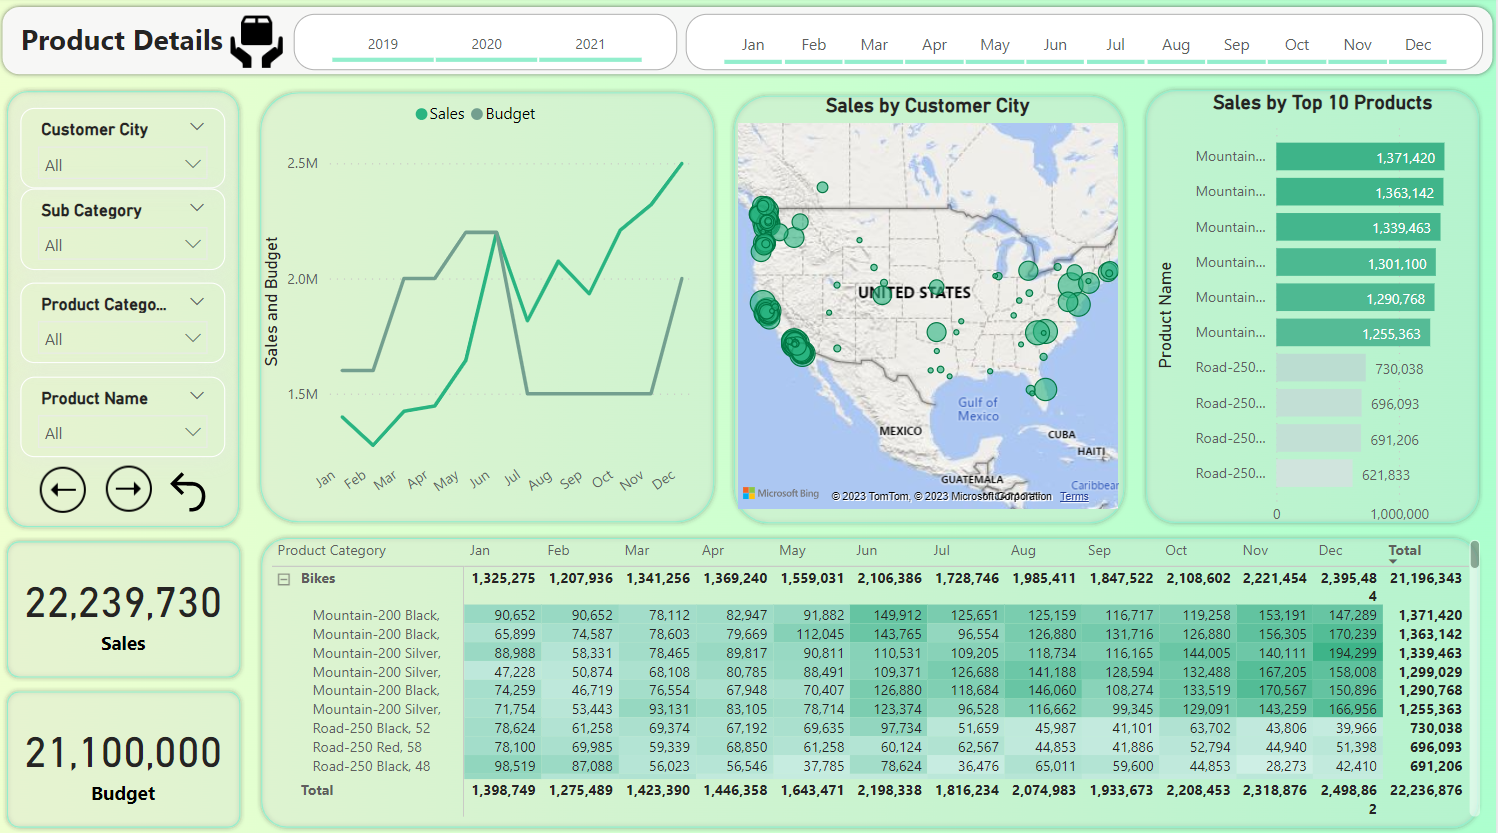

What the dashboard file says about the page in this screenshot:
{"tool":"powerbi","page":{"name":"Product Details","canvas":[1280,720],"ordinal":2},"visuals":[{"type":"group","id":"g1","title":"Group 11","box":[0,5,1280.6,65],"z":0},{"type":"shape","box":[0,5,1280.6,65],"z":0,"group":"g1"},{"type":"shape","box":[3.8,76.9,206,380.3],"z":0,"group":"g5"},{"type":"slicer","fields":{"Values":["DIM_Calendar.Year"]},"box":[252.2,14.4,327.8,47.8],"z":1000},{"type":"shape","box":[219.6,77.9,395.6,375.1],"z":1000,"group":"g3"},{"type":"shape","box":[625,79.9,341.3,373.1],"z":1000,"group":"g7"},{"type":"textbox","box":[14.3,14.2,214.2,47.1],"z":2000,"group":"g1"},{"type":"slicer","fields":{"Values":["DIM_Calendar.MonthShort"]},"box":[587.8,14.4,681.1,47.8],"z":2000},{"type":"shape","box":[221.4,458.2,1047.5,255.2],"z":2000,"group":"g8"},{"type":"group","id":"g2","title":"Group 2","box":[976.8,75.8,302.6,385.5],"z":3000},{"type":"slicer","fields":{"Values":["DIM_Customers.Customer City"]},"box":[18.9,95.1,174.7,68.8],"z":3000,"group":"g5"},{"type":"shape","box":[976.8,75.8,292.1,377.6],"z":4000,"group":"g2"},{"type":"group","id":"g3","title":"Group 3","box":[219.6,77.9,395.6,375.1],"z":4000},{"type":"slicer","fields":{"Values":["DIM_Products.Sub Category"]},"box":[18.9,163.9,174.7,69.8],"z":4000,"group":"g5"},{"type":"slicer","fields":{"Values":["DIM_Products.Product Category"]},"box":[18.9,244.8,174.7,68.8],"z":5000,"group":"g5"},{"type":"group","id":"g4","title":"Group 4","box":[3.8,461.2,207,124],"z":5000},{"type":"group","id":"g5","title":"Group 7","box":[3.8,76.9,206,380.3],"z":6000},{"type":"slicer","fields":{"Values":["DIM_Products.Product Name"]},"box":[18.9,324.7,174.7,68.8],"z":6000,"group":"g5"},{"type":"shape","box":[3.8,461.2,207,124],"z":6000,"group":"g4"},{"type":"shape","box":[3.8,589.4,207,124],"z":6000,"group":"g6"},{"type":"group","id":"g6","title":"Group 4","box":[3.8,589.4,207,124],"z":7000},{"type":"group","id":"g7","title":"Group 5","box":[625,79.9,341.3,373.1],"z":8000},{"type":"actionButton","box":[140.8,401.5,47.4,44.4],"z":8000,"group":"g5"},{"type":"pivotTable","fields":{"Values":["_Calculations.Sales"],"Columns":["DIM_Calendar.MonthShort"],"Rows":["DIM_Products.Product Category","DIM_Products.Product Name"]},"box":[228.6,458.2,1042.3,247.2],"z":8000,"group":"g8"},{"type":"image","box":[193.7,10.2,55.3,55.3],"z":9000},{"type":"image","box":[26.5,394.5,57.2,53.6],"z":9000,"group":"g5"},{"type":"image","box":[83.6,393.5,57.2,53.6],"z":10000,"group":"g5"},{"type":"group","id":"g8","title":"Group 1","box":[221.4,458.2,1049.6,255.2],"z":10000},{"type":"map","fields":{"Category":["DIM_Customers.Customer City"],"Size":["_Calculations.Sales"]},"box":[627,81.9,335.2,360.8],"z":11000,"group":"g7"},{"type":"lineChart","fields":{"Y":["_Calculations.Sales","_Calculations.Budget"],"Category":["DIM_Calendar.MonthShort"]},"box":[219.6,79.5,379.3,365.9],"z":14000,"group":"g3"},{"type":"card","fields":{"Values":["_Calculations.Sales"]},"box":[8.2,465.1,195.7,117],"z":15000,"group":"g4"},{"type":"card","fields":{"Values":["_Calculations.Budget"]},"box":[8.2,593.3,195.7,117],"z":15000,"group":"g6"},{"type":"barChart","title":"Sales by Top 10 Products","fields":{"Y":["_Calculations.Sales"],"Category":["DIM_Products.Product Name"]},"box":[983.2,80.1,296.2,381.3],"z":17000,"group":"g2"}]}

Visuals, with their boxes in screenshot pixels (x1, y1, x2, y2), scaled from the page's 1280x720 canvas onto the 1498x833 screenshot:
"Group 11" group: bbox=[0, 6, 1497, 81]
shape: bbox=[0, 6, 1497, 81]
shape: bbox=[4, 89, 246, 529]
slicer - DIM_Calendar.Year: bbox=[295, 17, 679, 72]
shape: bbox=[257, 90, 720, 524]
shape: bbox=[731, 92, 1131, 524]
textbox: bbox=[17, 16, 267, 71]
slicer - DIM_Calendar.MonthShort: bbox=[688, 17, 1485, 72]
shape: bbox=[259, 530, 1485, 825]
"Group 2" group: bbox=[1143, 88, 1497, 534]
slicer - DIM_Customers.Customer City: bbox=[22, 110, 227, 190]
shape: bbox=[1143, 88, 1485, 525]
"Group 3" group: bbox=[257, 90, 720, 524]
slicer - DIM_Products.Sub Category: bbox=[22, 190, 227, 270]
slicer - DIM_Products.Product Category: bbox=[22, 283, 227, 363]
"Group 4" group: bbox=[4, 534, 247, 677]
"Group 7" group: bbox=[4, 89, 246, 529]
slicer - DIM_Products.Product Name: bbox=[22, 376, 227, 455]
shape: bbox=[4, 534, 247, 677]
shape: bbox=[4, 682, 247, 825]
"Group 4" group: bbox=[4, 682, 247, 825]
"Group 5" group: bbox=[731, 92, 1131, 524]
actionButton: bbox=[165, 465, 220, 516]
pivotTable - _Calculations.Sales x DIM_Calendar.MonthShort: bbox=[268, 530, 1487, 816]
image: bbox=[227, 12, 291, 76]
image: bbox=[31, 456, 98, 518]
image: bbox=[98, 455, 165, 517]
"Group 1" group: bbox=[259, 530, 1487, 825]
map - DIM_Customers.Customer City x _Calculations.Sales: bbox=[734, 95, 1126, 512]
lineChart - _Calculations.Sales x _Calculations.Budget: bbox=[257, 92, 701, 515]
card - _Calculations.Sales: bbox=[10, 538, 239, 673]
card - _Calculations.Budget: bbox=[10, 686, 239, 822]
"Sales by Top 10 Products" barChart: bbox=[1151, 93, 1497, 534]
